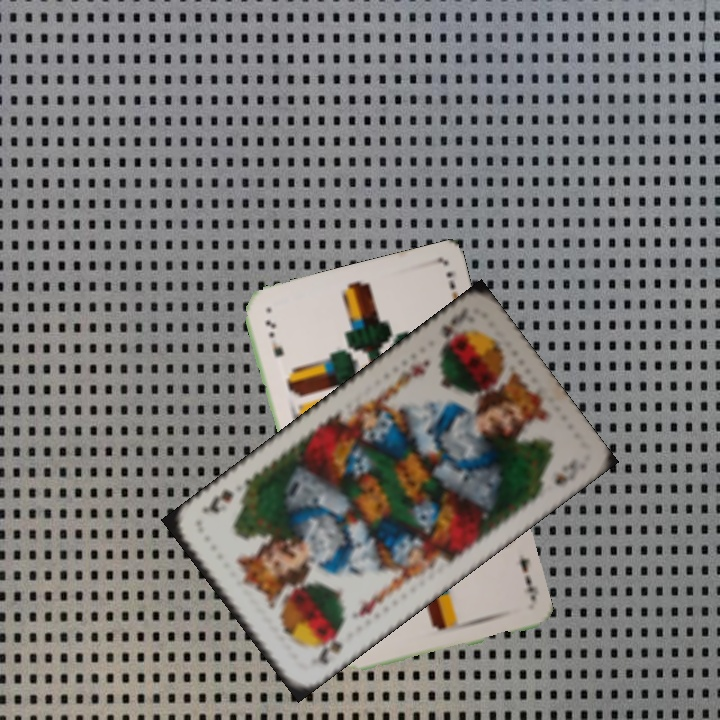E7: (516, 553, 541, 604), (261, 316, 286, 360)
SK: (306, 626, 346, 668), (434, 315, 460, 353)
